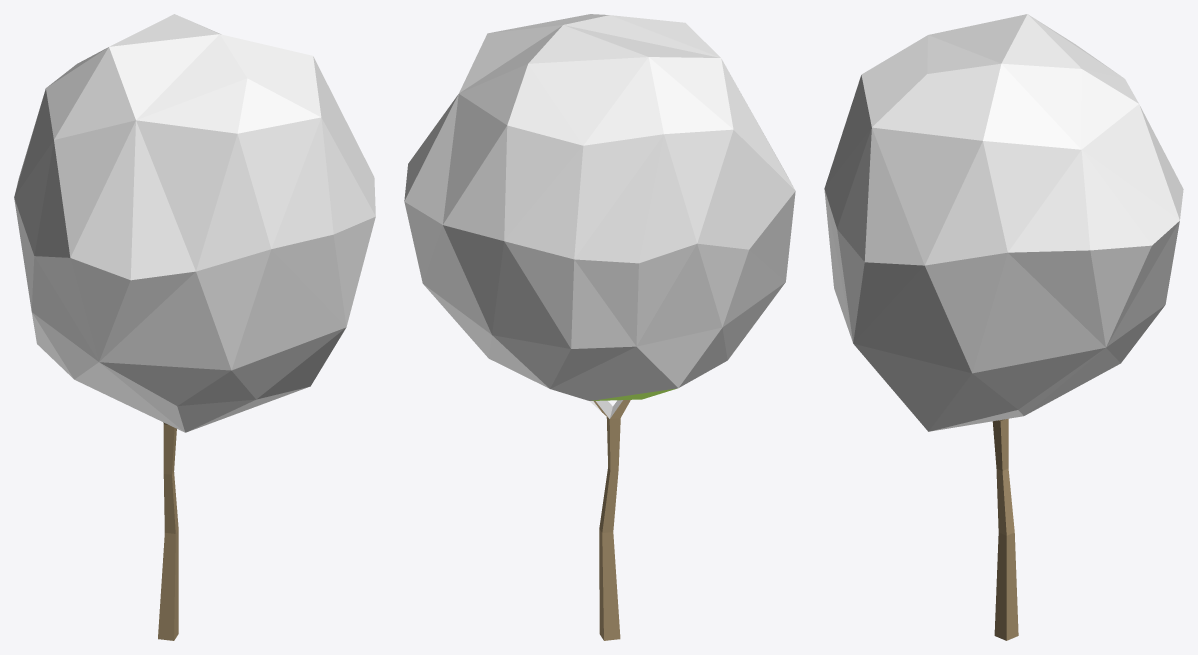
The model's file is Apple_Tree_s_Snow_BT_01.fbx.
The picture shows the model from 3 angles, left to right: view 1: azimuth 30°, elevation 25°; view 2: azimuth 150°, elevation 25°; view 3: azimuth 270°, elevation 25°; orthographic projection.
Visible parts, largest first — view 1: Apple_Tree_s_Snow_BT_01; view 2: Apple_Tree_s_Snow_BT_01; view 3: Apple_Tree_s_Snow_BT_01.
Boxes of the visible parts, x1,y1,x2,y2 form: Apple_Tree_s_Snow_BT_01: [14, 14, 375, 640]; Apple_Tree_s_Snow_BT_01: [404, 14, 795, 640]; Apple_Tree_s_Snow_BT_01: [824, 14, 1183, 640].
Bounding box in the file's own units: 178 × 329 × 179.
